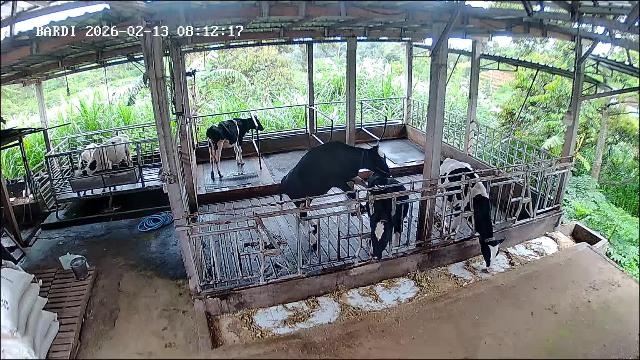mounting: (277, 137, 388, 239)
